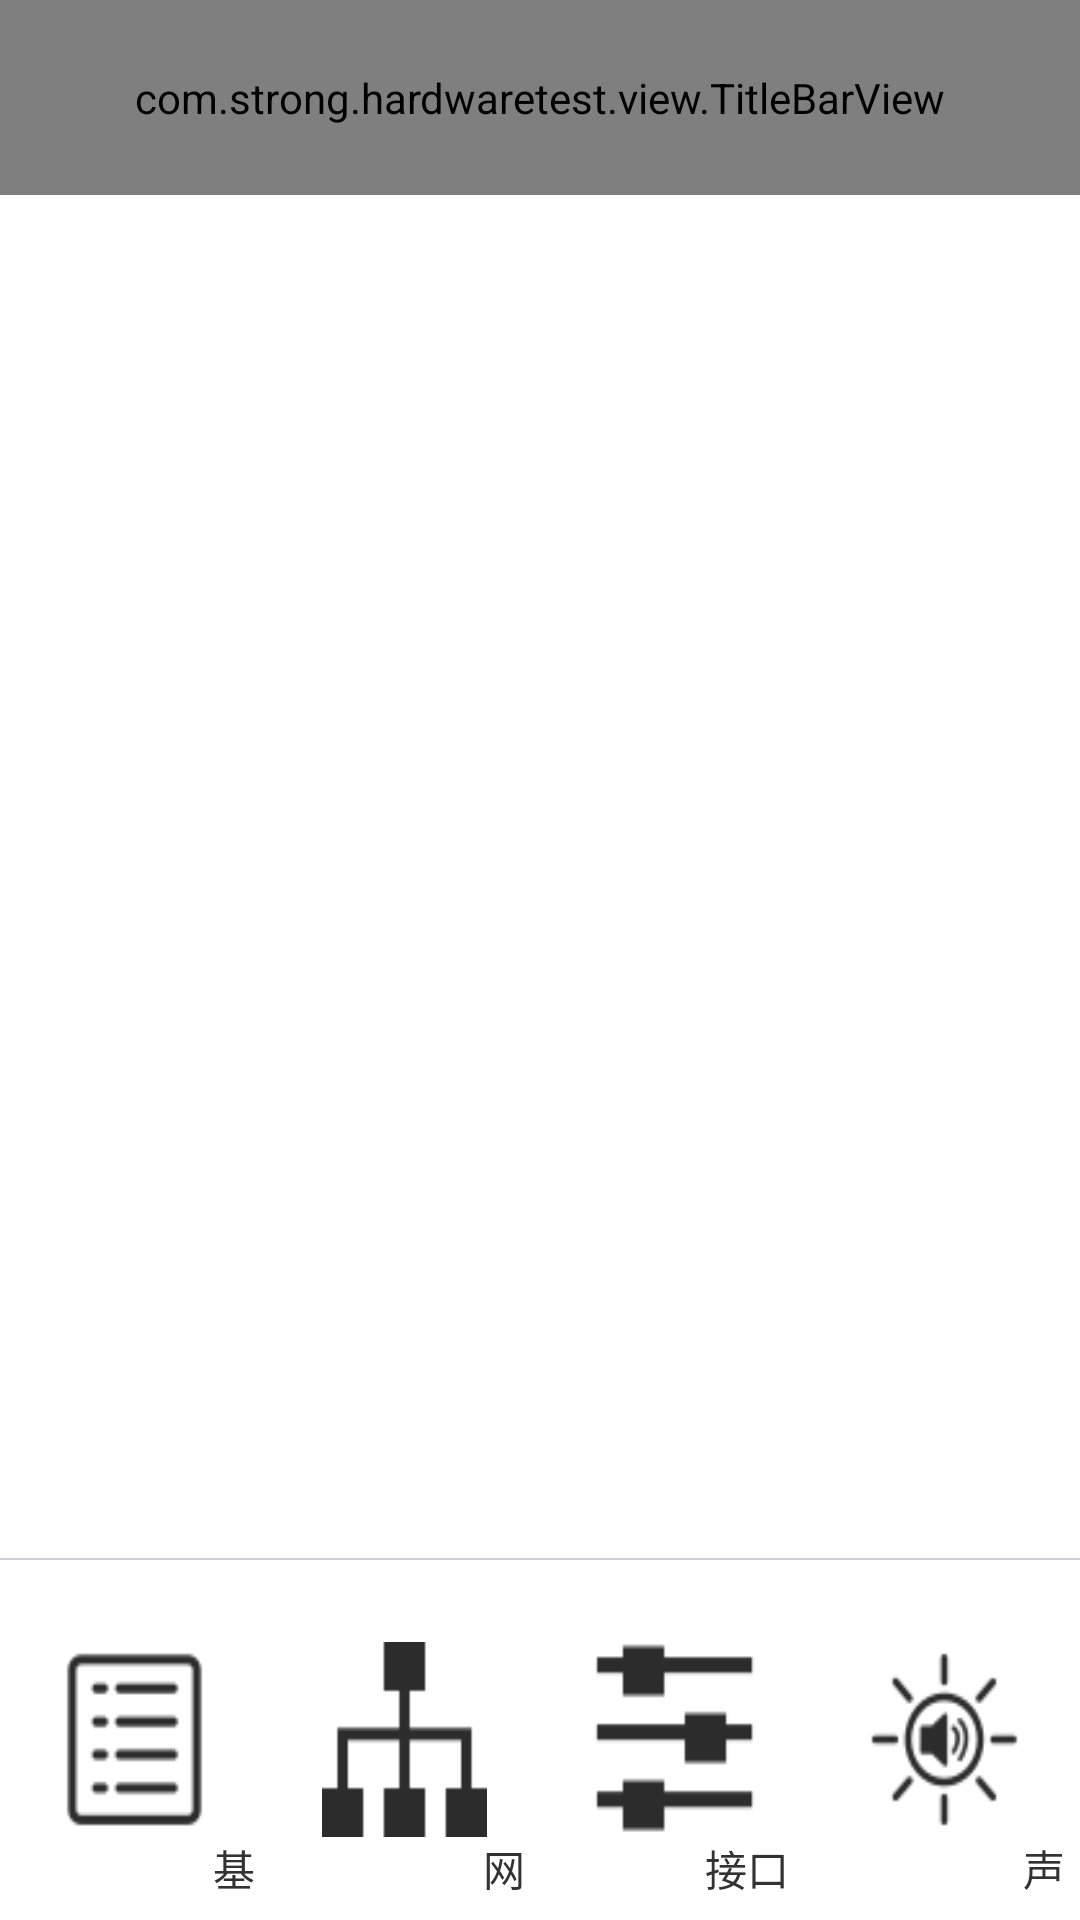

Named icons in this screenshot (1080x1920) and their bounding boxes, (x1, y1, x2, y2):
bar baseinfo: (67, 1653, 202, 1826)
bar ledspk: (871, 1653, 1018, 1826)
bar nettest: (322, 1642, 487, 1837)
